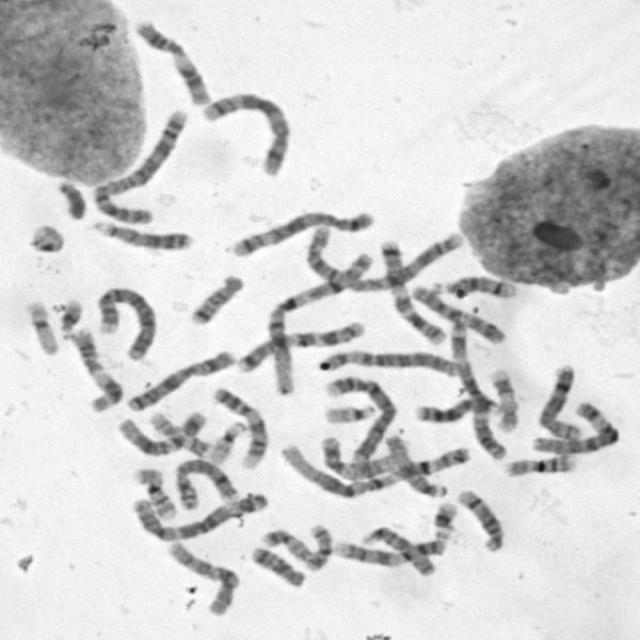A1: (267, 249, 374, 396), (280, 438, 470, 499)
A2: (93, 108, 189, 223), (305, 224, 465, 292)
A3: (448, 319, 507, 461), (132, 491, 271, 541)
B4: (322, 374, 397, 462), (96, 285, 157, 361)
B5: (202, 93, 289, 175), (232, 210, 376, 257)
C10: (411, 286, 506, 345), (166, 540, 239, 616)
C11: (133, 20, 210, 107), (69, 328, 124, 411)
C12: (116, 410, 207, 456), (320, 436, 397, 480)
C6: (530, 400, 621, 454), (317, 348, 463, 377)
C7: (236, 320, 367, 373), (380, 240, 446, 344)
C8: (536, 364, 582, 442), (174, 459, 240, 510)
C9: (213, 387, 268, 468), (333, 539, 446, 567)
D13: (91, 220, 192, 250), (413, 396, 499, 424)
D14: (456, 489, 504, 552), (431, 274, 517, 298)
D15: (358, 525, 437, 576), (385, 435, 448, 498)
E16: (133, 466, 178, 522), (504, 454, 580, 478)
E17: (149, 413, 209, 457), (488, 369, 518, 433)
E18: (191, 275, 245, 324), (251, 548, 304, 588)
F19: (26, 301, 58, 356), (29, 222, 65, 254)
F20: (262, 529, 312, 562), (305, 524, 333, 570)
G21: (432, 500, 460, 542), (59, 299, 82, 341)
G22: (207, 422, 250, 466), (323, 403, 377, 423)
X: (125, 351, 237, 412)
Y: (56, 181, 86, 220)
